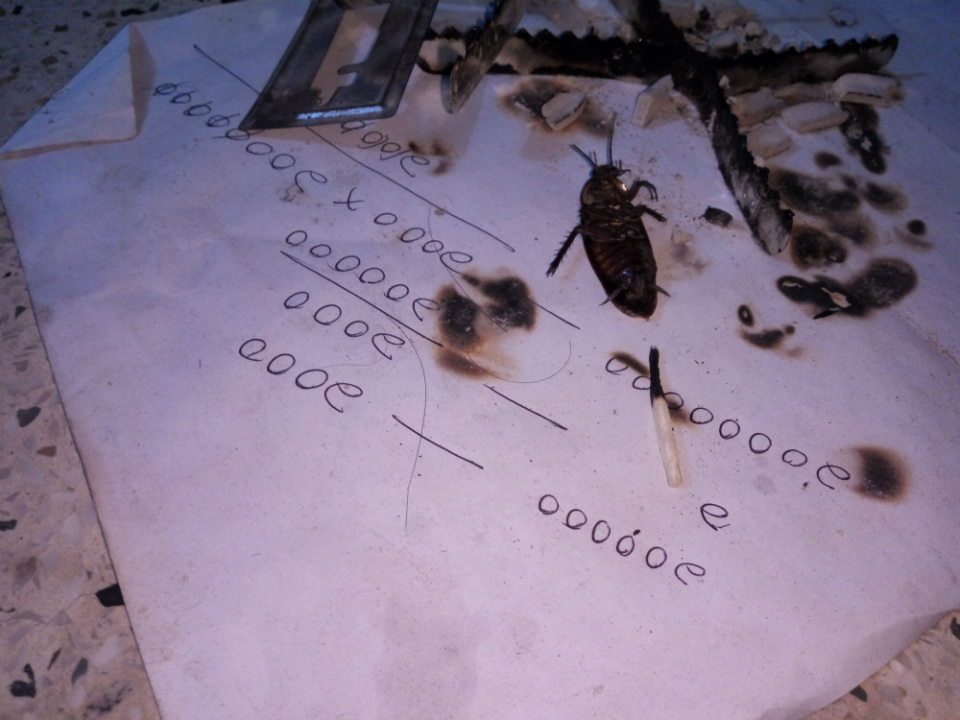cockroach: (456, 149, 773, 347)
